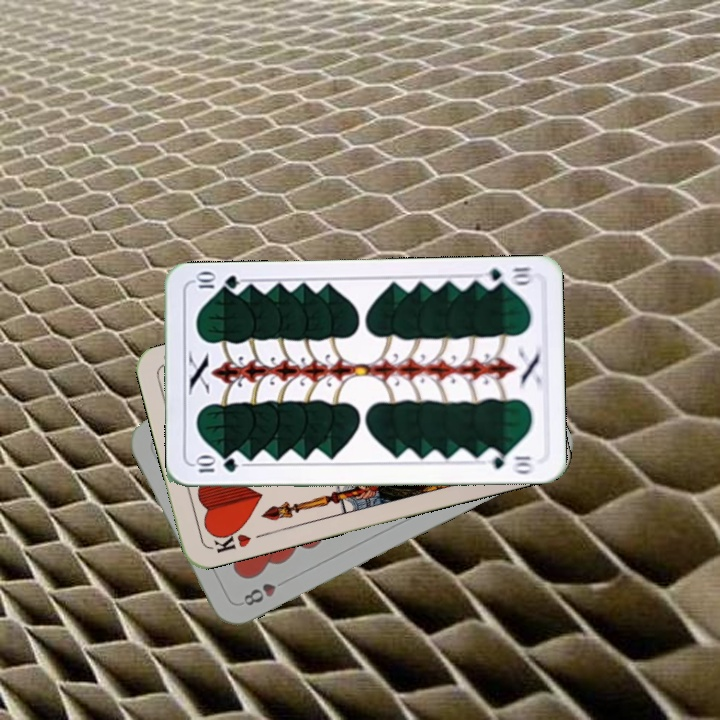G10: (477, 263, 536, 291), (191, 455, 240, 475)
H8: (239, 574, 291, 609)
HK: (207, 523, 254, 555)
